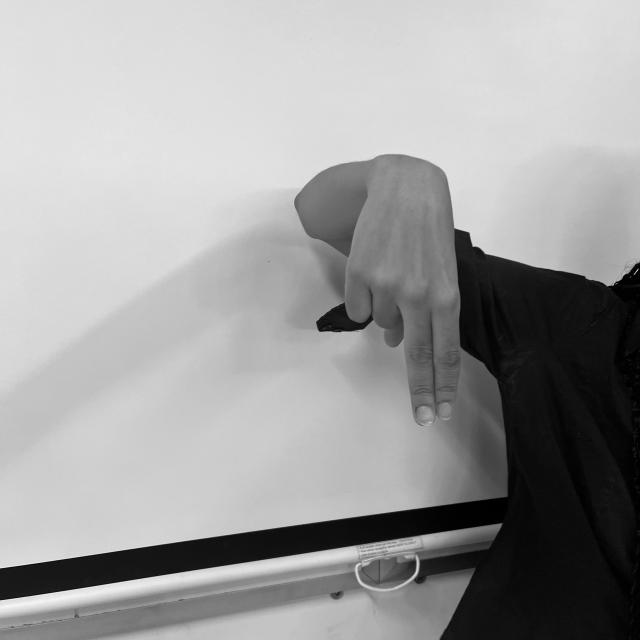Letra N: (339, 150, 465, 430)
